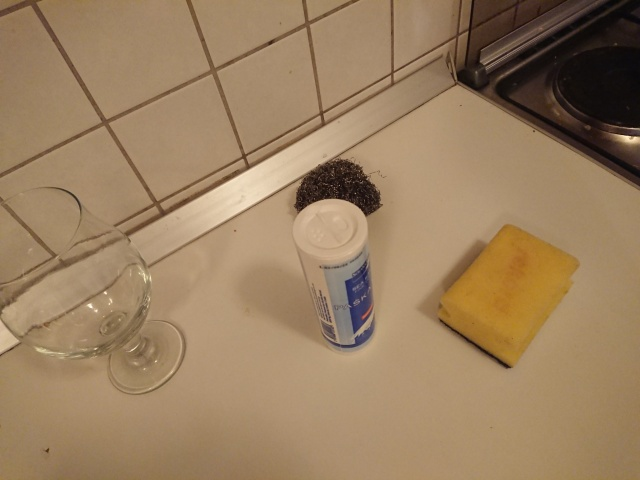Solana Pag Fine Sea Salt 250g: (290, 195, 380, 356)
